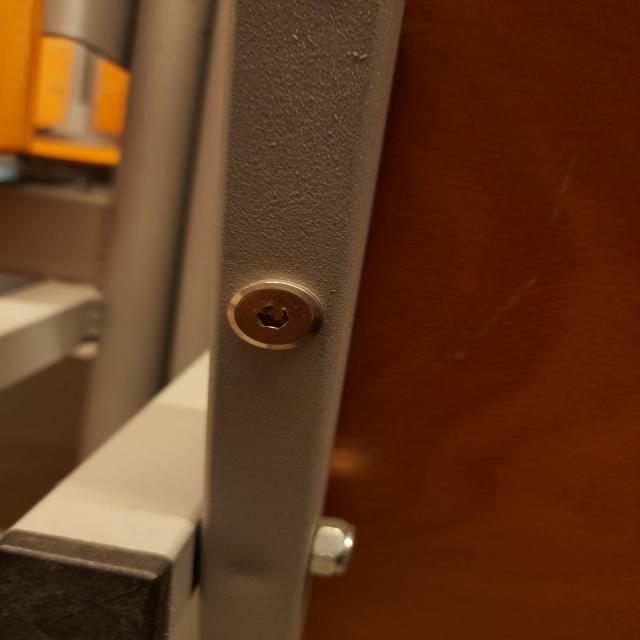Hex Socket Allen: (226, 278, 326, 350)
